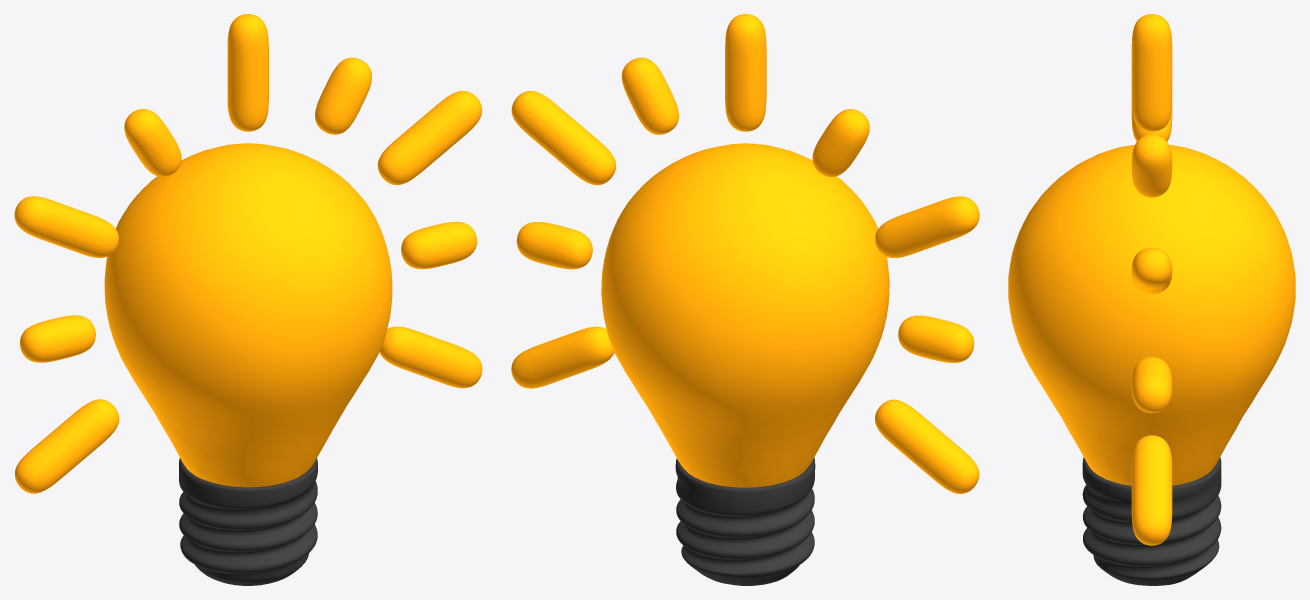
Rendered from blendertimer-lightbulb-24.glb.
3 renders of one model, left to right at view 1: azimuth 30°, elevation 25°; view 2: azimuth 150°, elevation 25°; view 3: azimuth 270°, elevation 25°, orthographic.
Visible parts, largest first — view 1: Cartoon Lightbulb; view 2: Cartoon Lightbulb; view 3: Cartoon Lightbulb.
Boxes of the visible parts, <box> form: Cartoon Lightbulb: <box>14,14,482,585</box>; Cartoon Lightbulb: <box>511,14,979,585</box>; Cartoon Lightbulb: <box>1008,14,1295,585</box>.
Bounding box in the file's own units: 0.6144 × 0.7012 × 0.3311.
